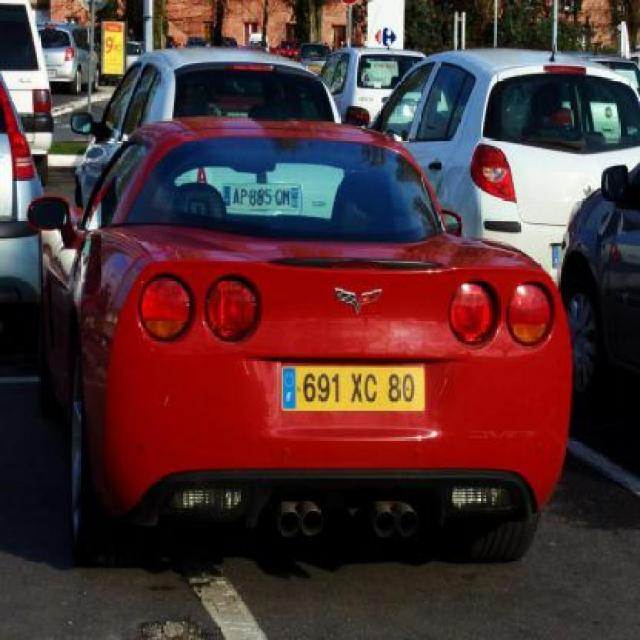License-Plates: (271, 354, 430, 414), (213, 173, 303, 211)
